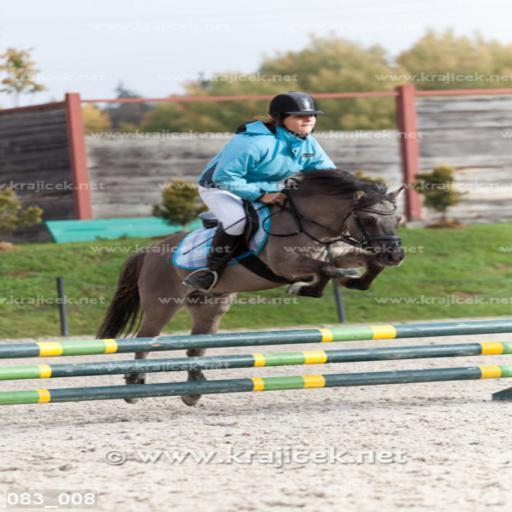horse: (94, 162, 408, 409)
